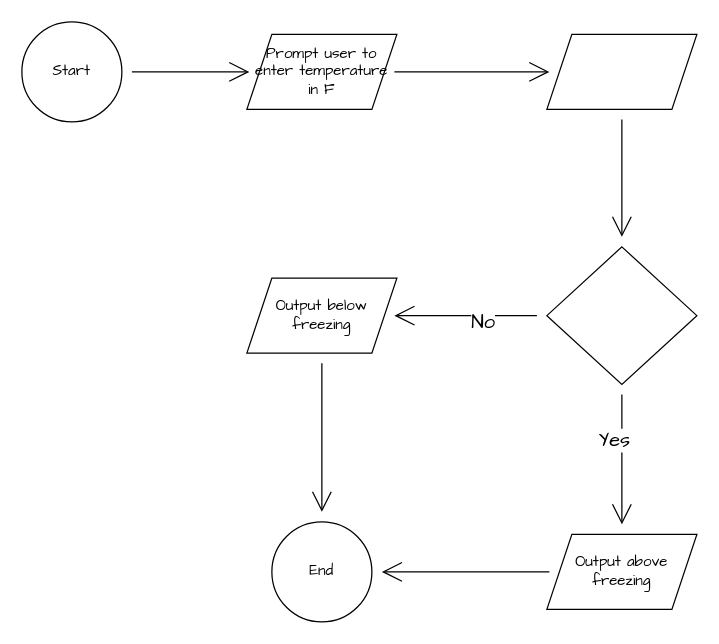
Some shapes in this 719 by 644 pixel diagram are drawn without their labels. The centre of each missing label's shape, as x and y in pixels:
"Input saved to temp" goes at [621,71].
"temp greater than 32" goes at [621,315].
